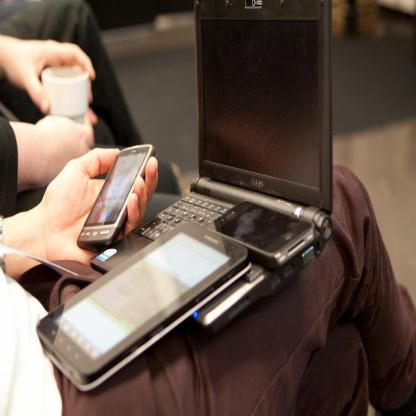board: (89, 0, 332, 337)
